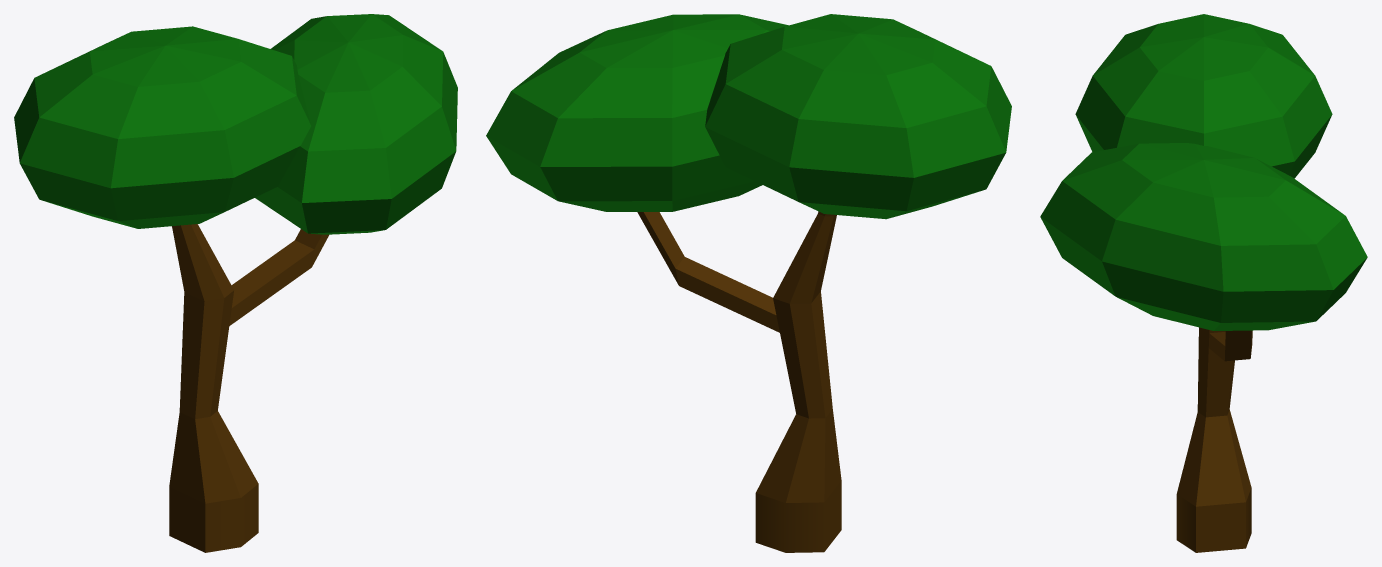
The model's file is tree3.fbx.
3 renders of one model, left to right at view 1: azimuth 30°, elevation 25°; view 2: azimuth 150°, elevation 25°; view 3: azimuth 270°, elevation 25°, orthographic. The views are drawn at different scales.
Parts seen in each view (by area): view 1: polySurface22; view 2: polySurface22; view 3: polySurface22.
Part boxes in pixels (x1,y1,x2,y2): polySurface22: [14, 14, 457, 552]; polySurface22: [486, 14, 1011, 552]; polySurface22: [1040, 14, 1367, 552].
Size of the model in its own units: 18.92 by 20.39 by 12.74.
